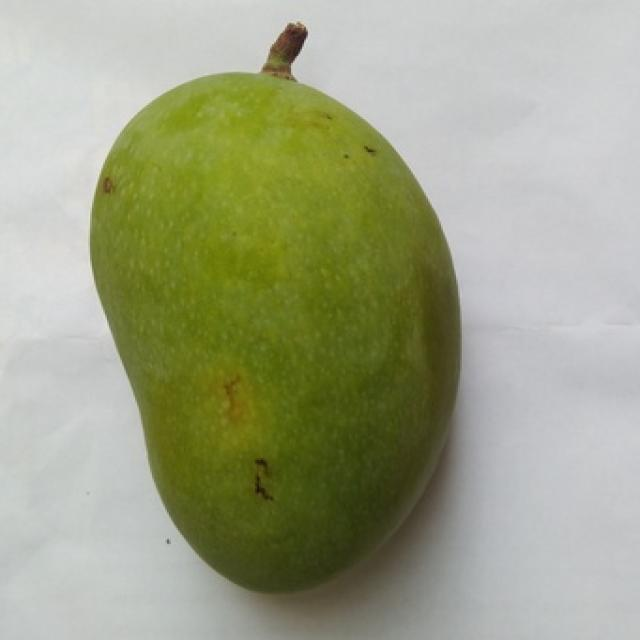Mango: (92, 26, 460, 591)
